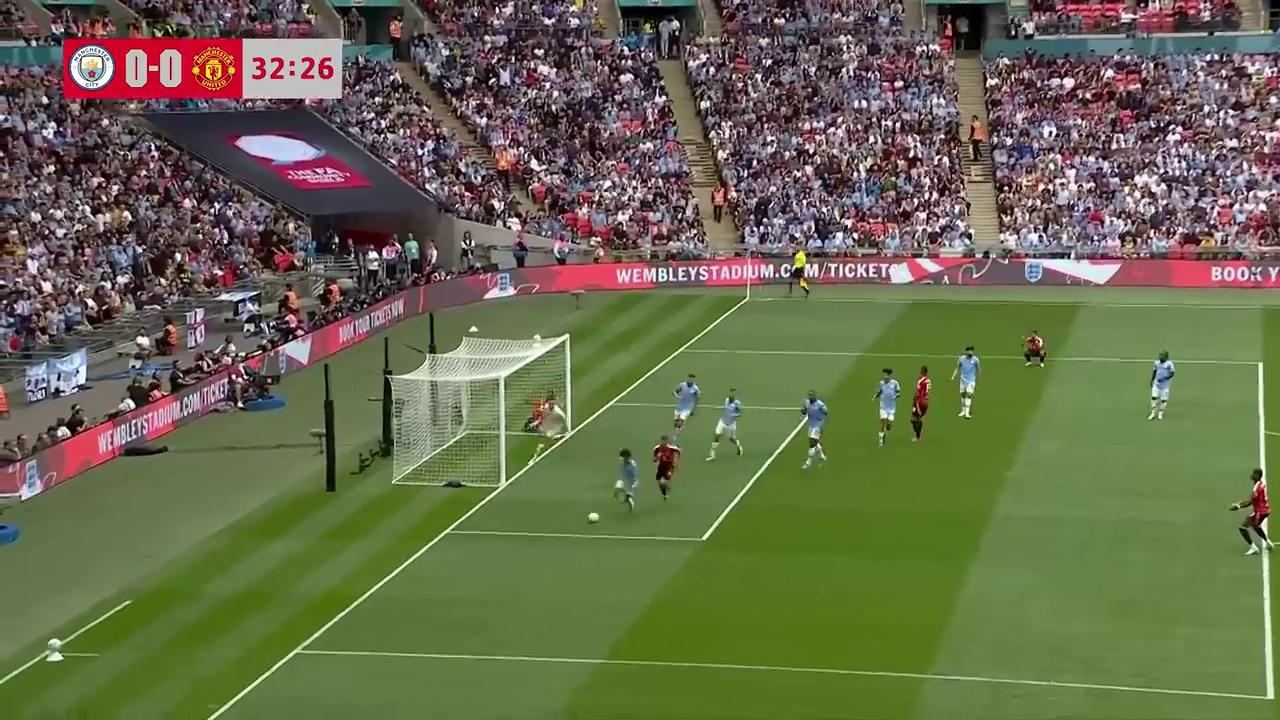ball: (585, 508, 600, 524)
player: (524, 390, 566, 461), (1241, 470, 1274, 551), (705, 390, 743, 460), (950, 344, 981, 419), (872, 368, 901, 446), (800, 391, 828, 469), (651, 434, 681, 502), (1147, 351, 1176, 421), (672, 373, 700, 433), (612, 449, 639, 511), (909, 368, 930, 442), (1022, 329, 1047, 368)
referee: (792, 250, 811, 298)
